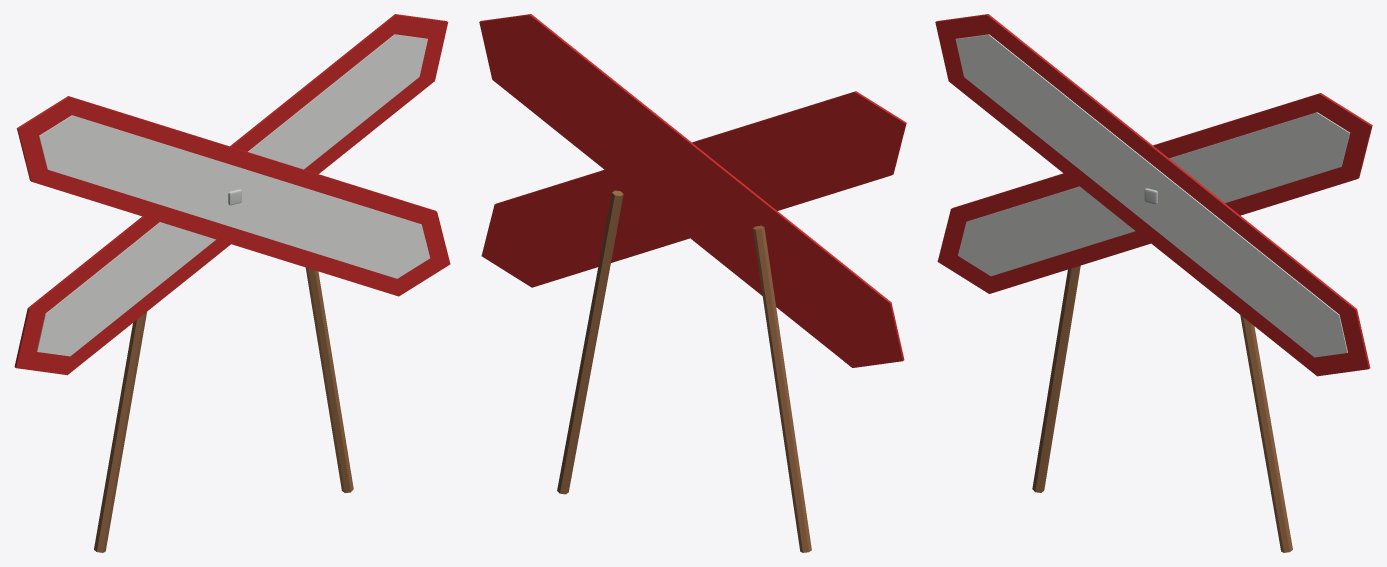
Rendered from lx_saltire.glb.
3 views of the same model, side by side, from view 1: azimuth 30°, elevation 25°; view 2: azimuth 150°, elevation 25°; view 3: azimuth 330°, elevation 25° (orthographic). The views are drawn at different scales.
Parts seen in each view (by area): view 1: SM_lx_saltire; view 2: SM_lx_saltire; view 3: SM_lx_saltire.
Boxes of the visible parts, <box> form: SM_lx_saltire: <box>14,14,450,552</box>; SM_lx_saltire: <box>479,14,906,552</box>; SM_lx_saltire: <box>935,14,1372,552</box>.
Size of the model in its own units: 1.32 by 1.38 by 0.082.
